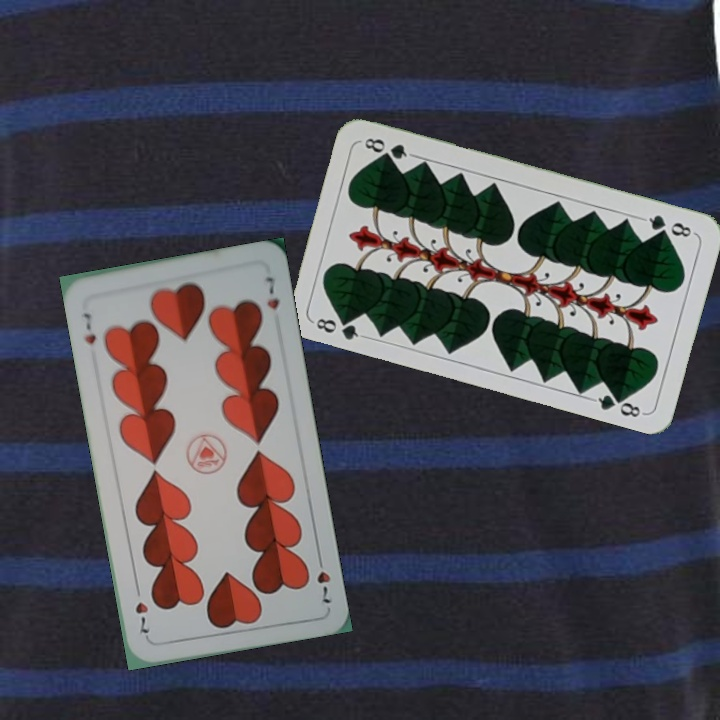G8: (309, 311, 367, 343), (639, 210, 697, 240)
H7: (313, 550, 334, 606), (79, 309, 99, 347)
